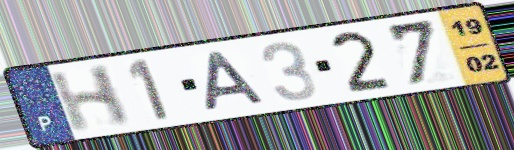1: (125, 57, 174, 122)
2: (330, 29, 393, 94)
3: (260, 40, 318, 102)
7: (386, 17, 440, 88)
A: (204, 48, 271, 114)
H: (46, 62, 134, 136)
